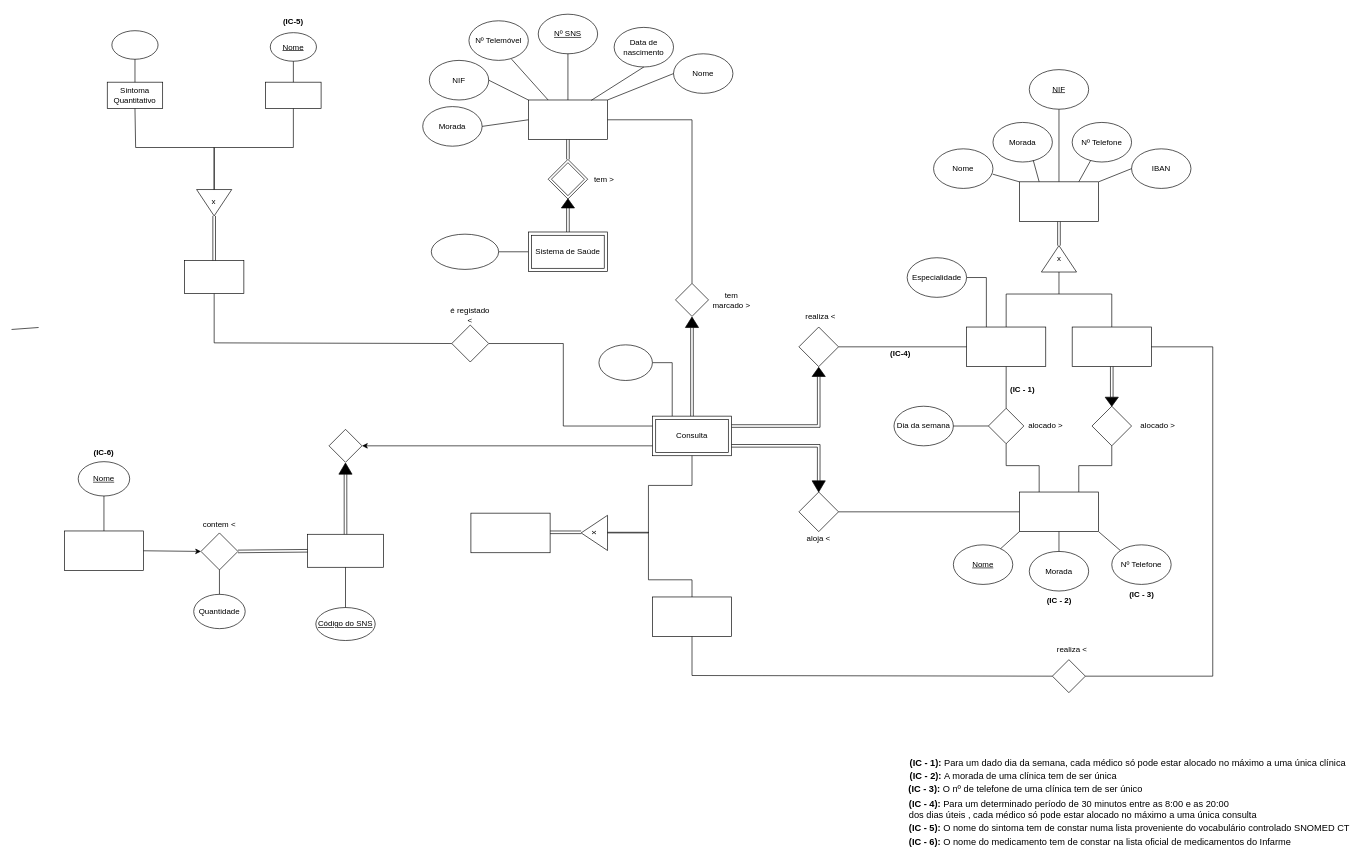
The diagram is 1368 pixels wide and 863 high, and some of its shapes have lost their labels. The centre of each missing label's shape, as x and y in pixels:
"Clínica" goes at [1059,511].
"Enfermeiro" goes at [1111,346].
"Hora de início" goes at [625,362].
"Medicamento" goes at [104,550].
"Médico" goes at [1006,346].
"Nome do Sistema" goes at [465,251].
"Paciente" goes at [568,119].
"Profissional de Saúde" goes at [1059,201].
"Receita" goes at [345,550].
"Servico de enfermagem" goes at [692,616].
"Serviço de Saúde" goes at [510,532].
"Sintoma" goes at [214,276].
"Sintoma Qualitativo" goes at [293,95].
"Valor" goes at [134,44].
